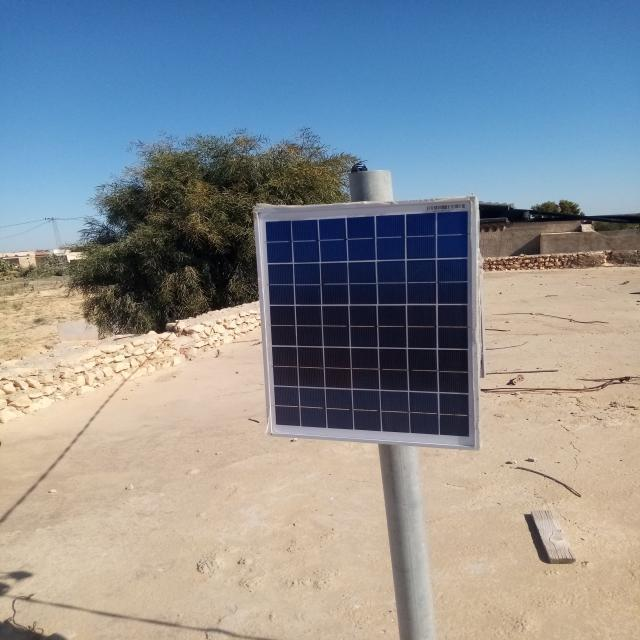no faulty: (254, 197, 479, 450)
